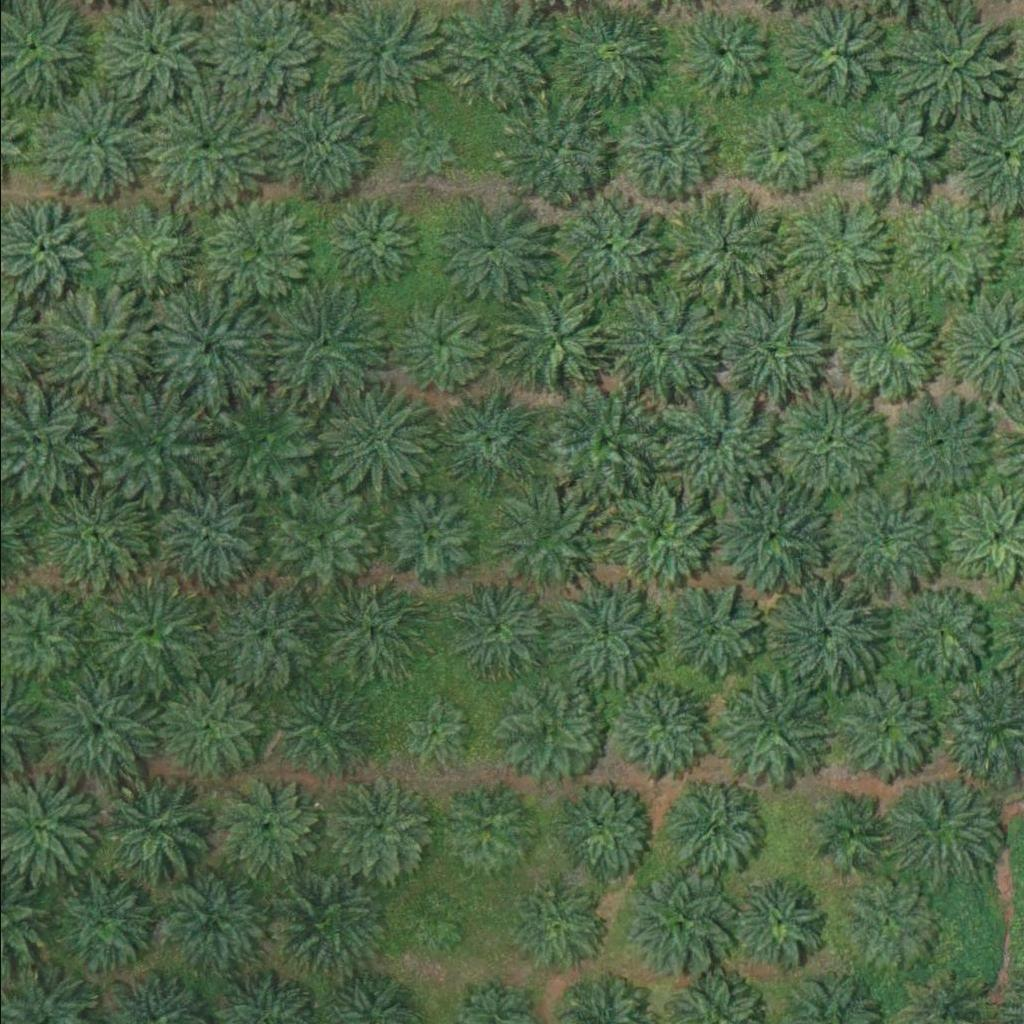Kelapa_Sawit: (882, 773, 996, 886), (622, 863, 736, 976), (208, 382, 322, 495), (272, 288, 386, 401), (428, 194, 542, 307), (98, 389, 212, 502), (776, 195, 889, 308), (667, 187, 780, 300), (883, 384, 996, 497), (829, 487, 942, 600), (719, 479, 832, 592), (544, 580, 657, 693), (598, 481, 711, 594), (599, 292, 712, 405), (500, 283, 613, 396), (151, 288, 264, 401), (548, 192, 661, 305), (38, 289, 151, 402), (100, 578, 213, 691), (40, 675, 153, 788), (828, 671, 942, 783), (147, 477, 261, 589), (493, 94, 607, 206), (39, 485, 153, 597), (893, 7, 1006, 119), (780, 1, 893, 113), (712, 295, 825, 407), (769, 383, 882, 495), (657, 384, 770, 496), (776, 575, 889, 687), (711, 673, 824, 785), (275, 866, 388, 978), (153, 864, 266, 976), (203, 576, 316, 688), (487, 483, 600, 595), (547, 386, 660, 498), (435, 382, 548, 494), (323, 384, 436, 496), (196, 195, 309, 307), (262, 89, 375, 201), (149, 91, 262, 203), (31, 85, 144, 197), (99, 772, 212, 884), (46, 862, 159, 974), (843, 100, 944, 200), (897, 196, 998, 296), (837, 296, 938, 396), (659, 581, 760, 681), (505, 880, 606, 980), (556, 778, 657, 878), (437, 782, 538, 882), (329, 774, 430, 874), (218, 774, 319, 874), (611, 678, 712, 778), (499, 679, 600, 779), (273, 681, 374, 781), (157, 679, 258, 779), (450, 579, 551, 679), (317, 576, 418, 676), (373, 489, 474, 589), (270, 489, 371, 589), (103, 200, 204, 300), (615, 103, 715, 203), (894, 582, 994, 682), (661, 771, 761, 871), (838, 873, 938, 973), (726, 870, 826, 970), (392, 293, 492, 393), (323, 191, 423, 291), (737, 109, 825, 196), (816, 794, 892, 869), (393, 692, 468, 767), (401, 889, 464, 951), (396, 118, 459, 180)
